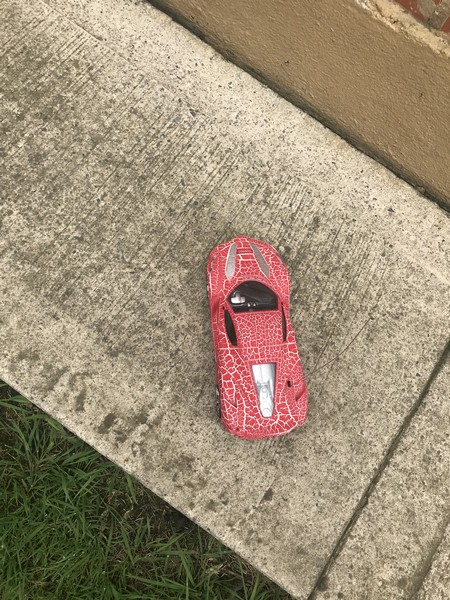RC: (206, 235, 306, 439)
